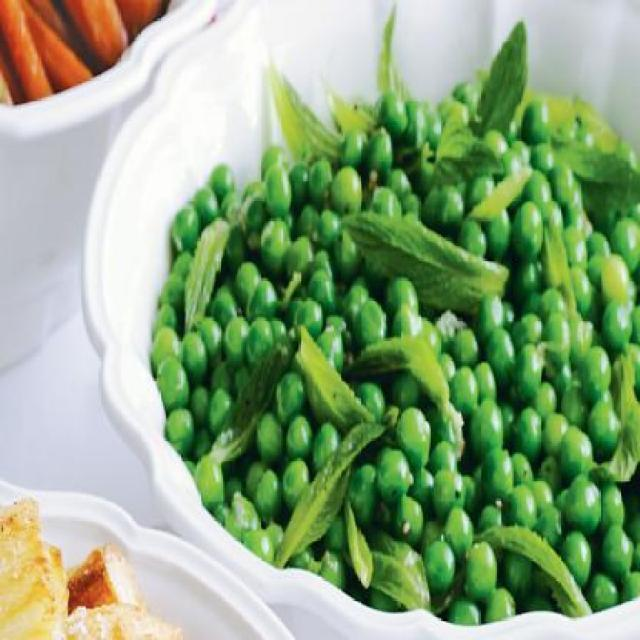Peas: (146, 68, 640, 634)
